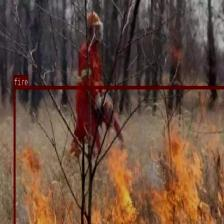fire: (13, 85, 224, 223)
